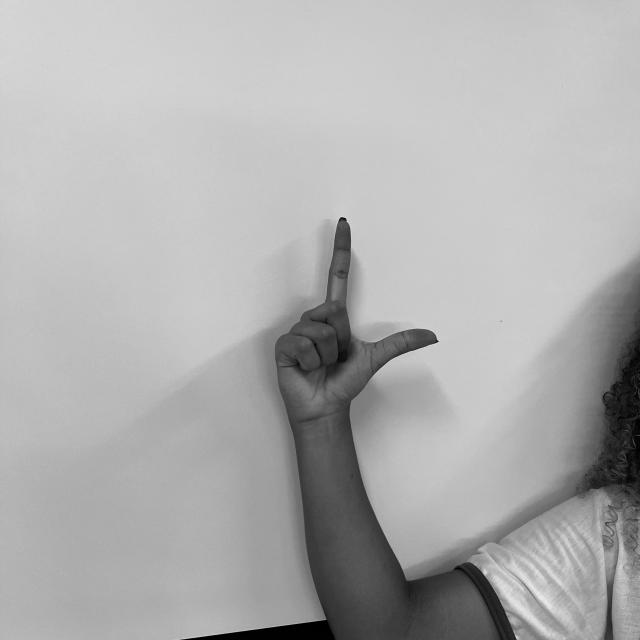Letra L: (269, 211, 442, 427)
